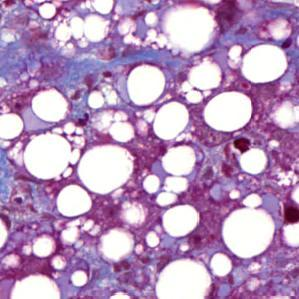steatosis: (221, 207, 277, 260), (22, 134, 76, 181), (202, 93, 256, 133), (125, 62, 164, 106), (159, 205, 200, 238)
